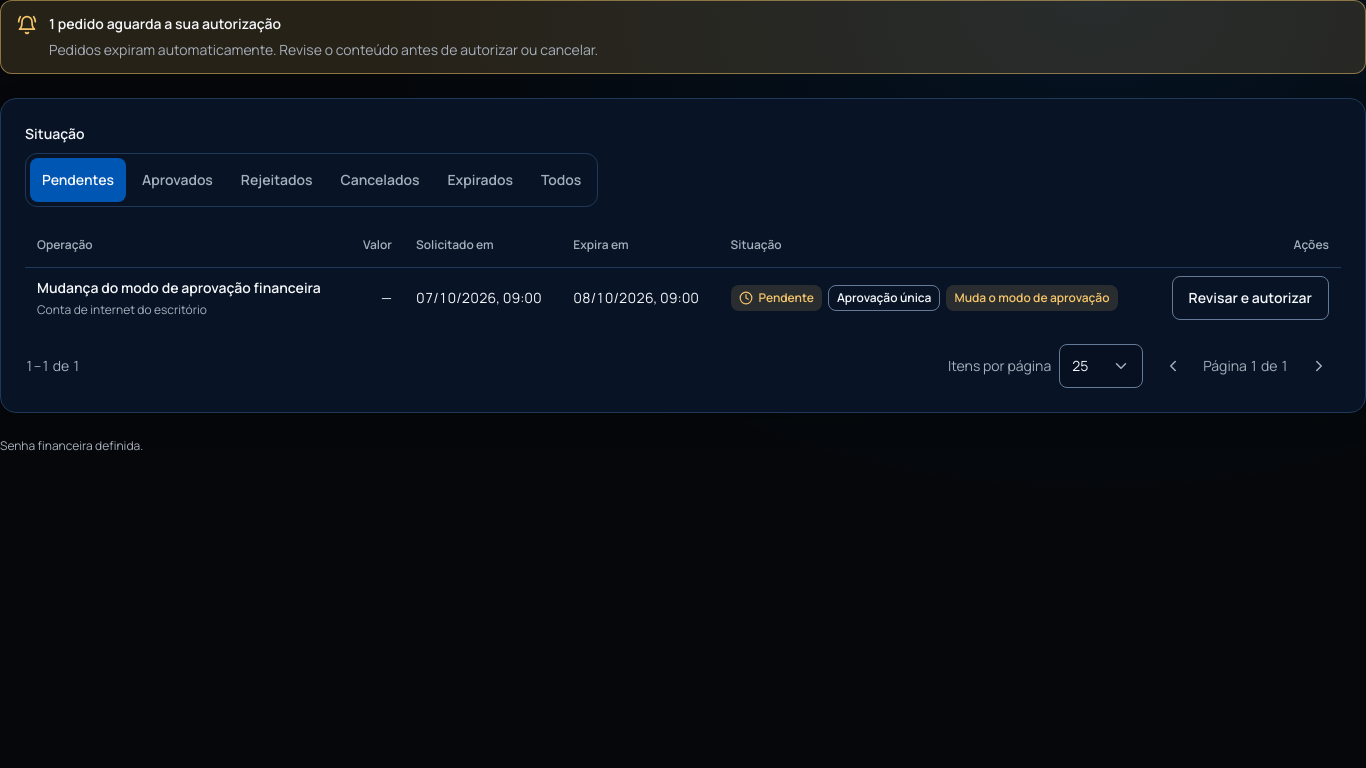
Test: Aprovações — modo ÚNICA › pedido que muda o modo: alerta forte no detalhe, com o novo modo e as consequências
This screenshot has width=1366, height=768.
Click the button with aria-label "Revisar pedido: mudança do modo": (1250, 298) [1172,276,1329,320]
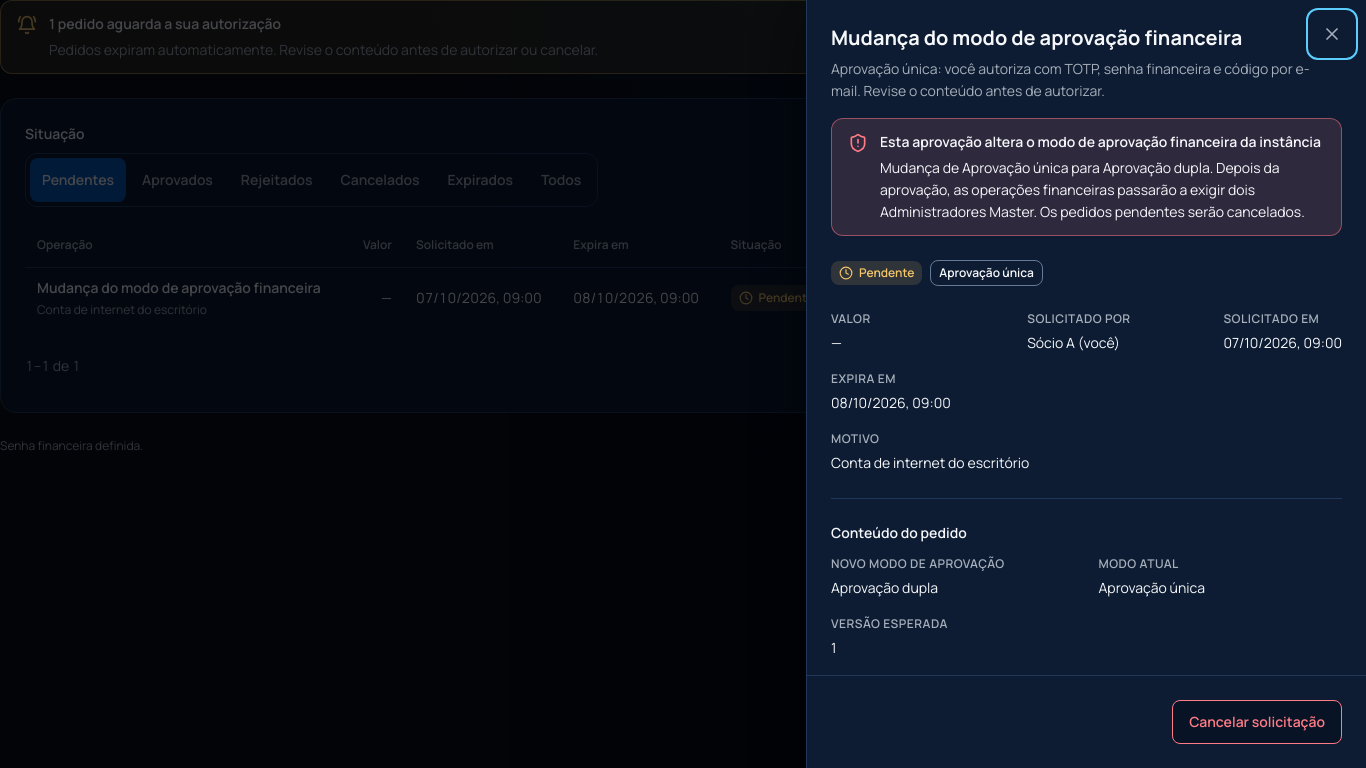
expect the message with test id "mode-change-alert" shows "Esta aprovação altera o modo de aprovação financeira da instância": met, box [880,132,1321,151]
expect the message with test id "mode-change-alert" shows "Mudança de Aprovação única para Aprovação dupla": met, box [880,158,1216,177]
expect the message with test id "mode-change-alert" shows "Os pedidos pendentes serão cancelados": met, box [880,158,1305,221]
